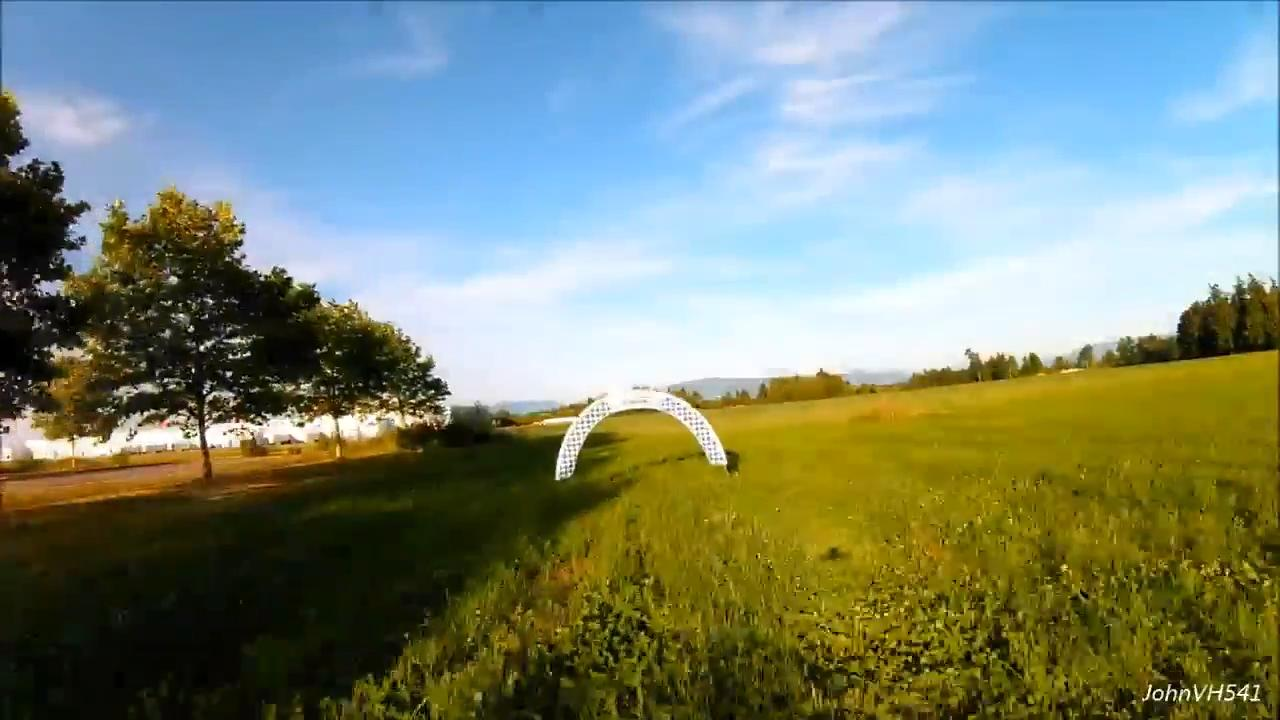gate: (547, 388, 729, 483)
